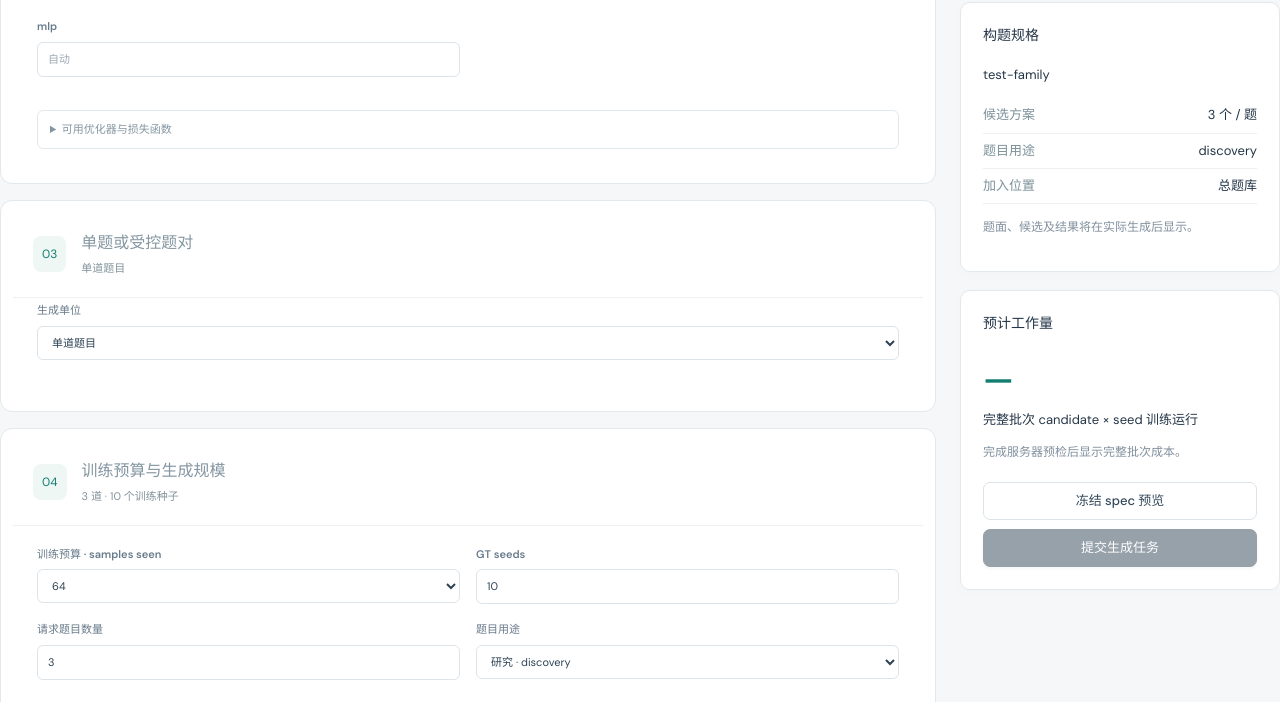
Scenario: freezes controlled pair settings and invalidates preflight on factor changes
(page scrolled)
Select "题目对 · 正常题 + DataFlip" in the dropdown labelled "生成单位". click: (468, 342)
box: [37,326,899,360]
(page scrolled)
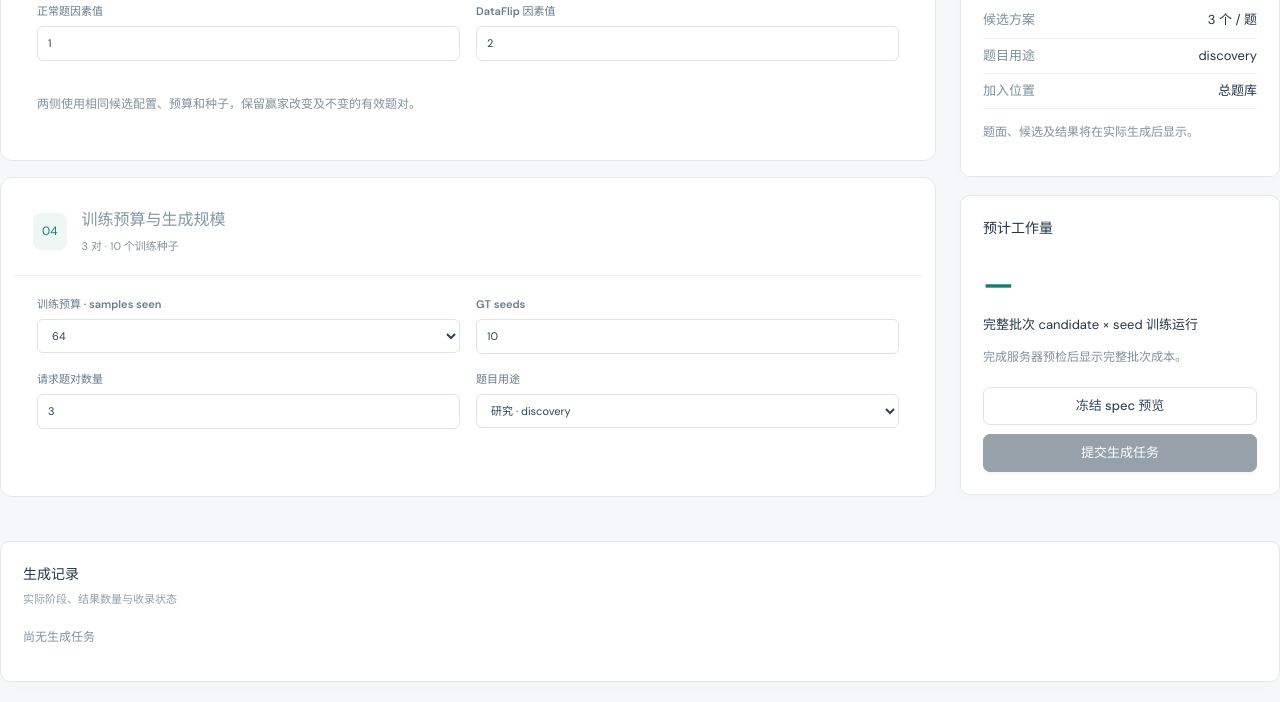
Select "独立最终盲测 · final" in the dropdown labelled "题目用途". click: (688, 411)
box: [476,394,899,428]
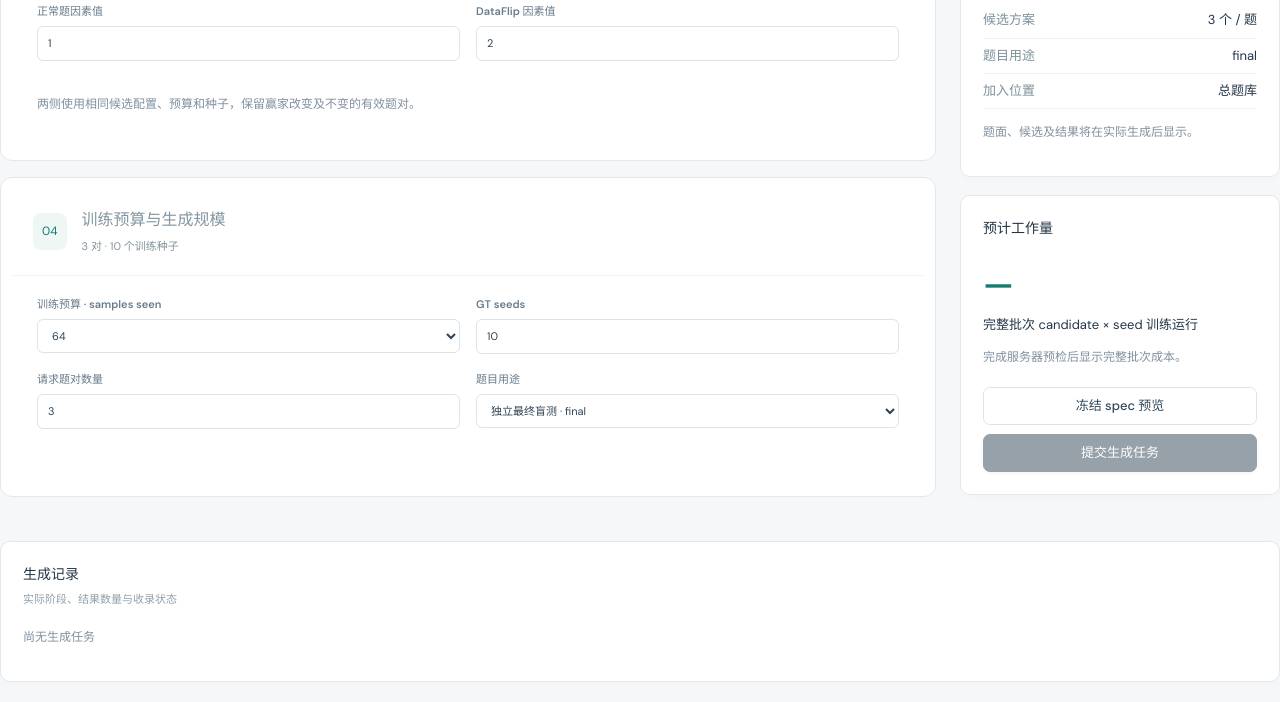
Click the button "冻结 spec 预览". click: (1120, 406)
box: [983,387,1257,425]
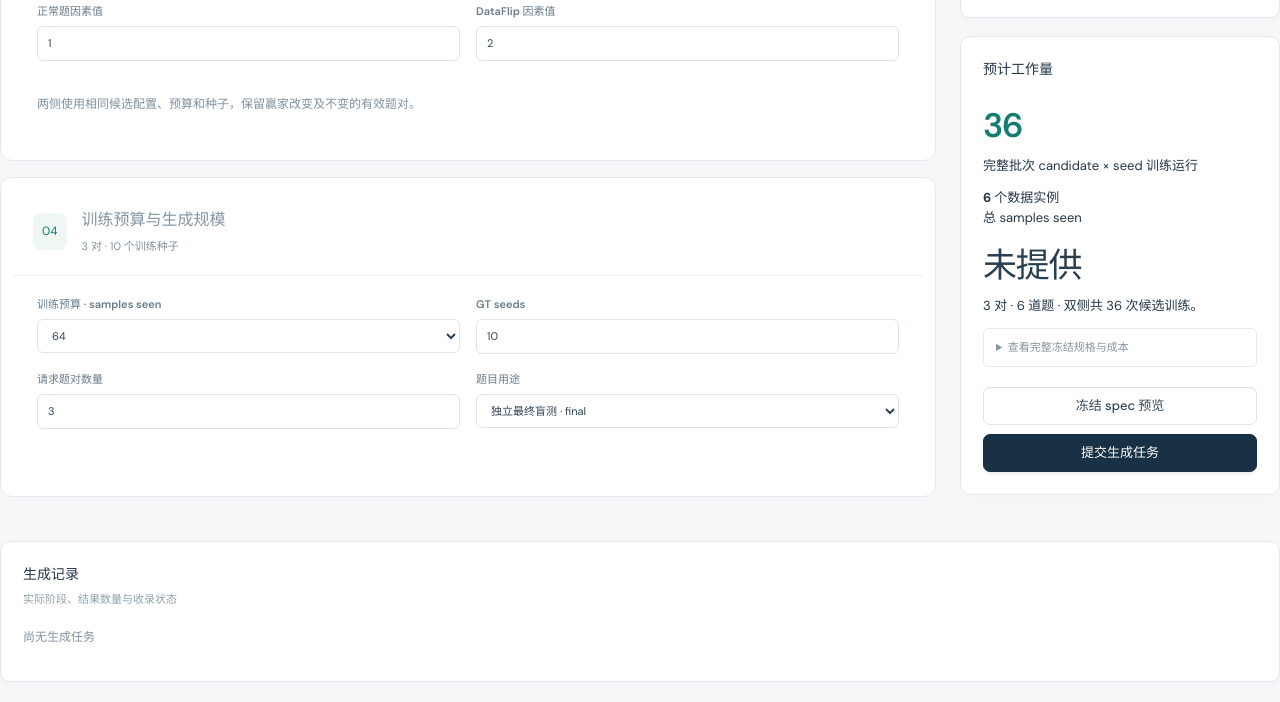
Expected: the button "提交生成任务" is enabled, [983,434,1257,472]
Replace the text in the field labelled "DataFlip 因素值" with "3". click: (688, 43)
box: [476,26,899,61]
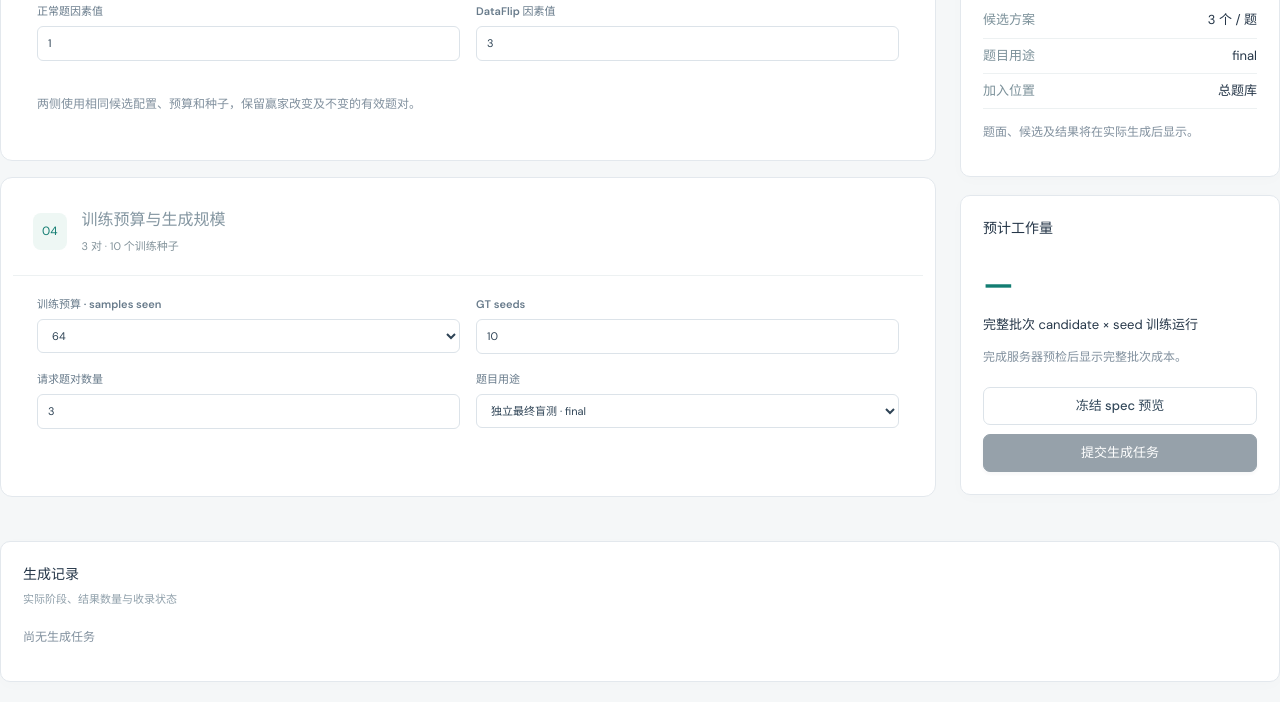
Expected: the button "提交生成任务" is disabled, [983,434,1257,472]
